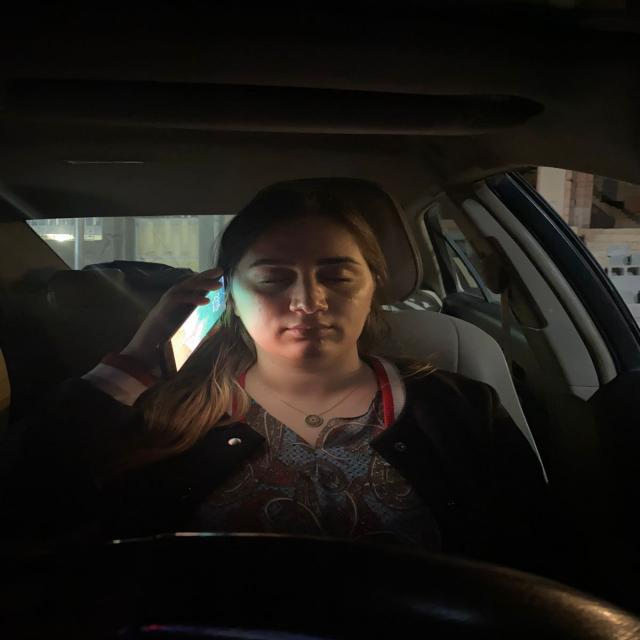drowsy: (232, 207, 386, 371)
mobile: (157, 263, 237, 385)
